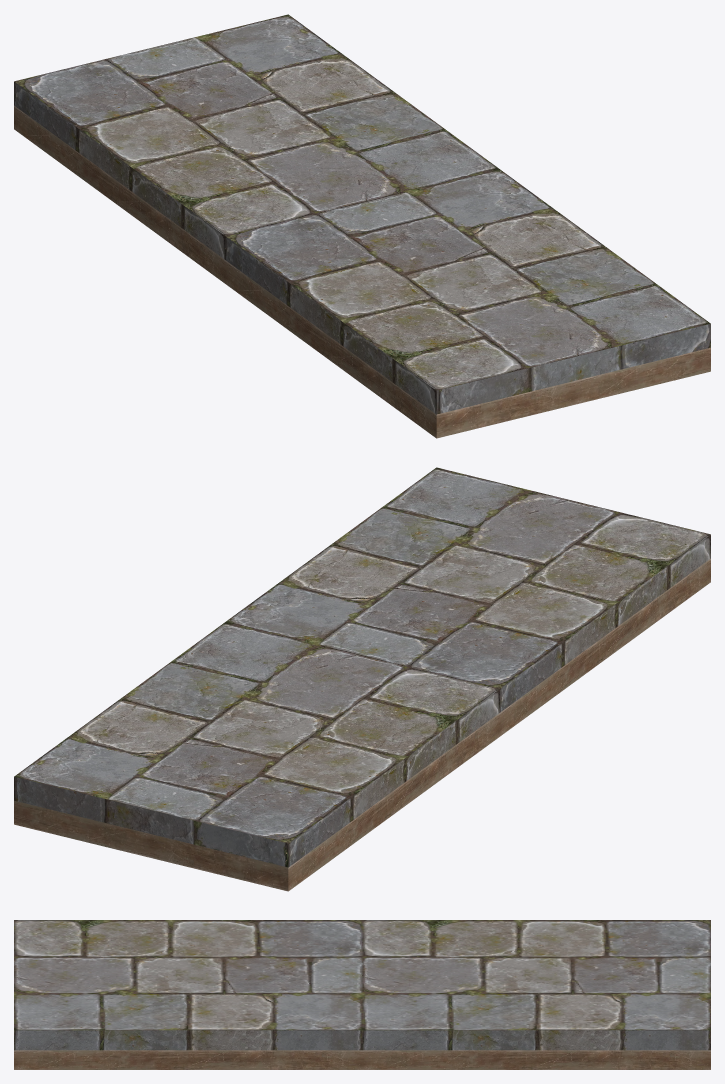
3 views of the same model, one above another, from view 1: azimuth 30°, elevation 25°; view 2: azimuth 150°, elevation 25°; view 3: azimuth 270°, elevation 25° (orthographic). The views are drawn at different scales.
Parts seen in each view (by area): view 1: SM_Greathall_Floor_8x3_01_LOD0; view 2: SM_Greathall_Floor_8x3_01_LOD0; view 3: SM_Greathall_Floor_8x3_01_LOD0.
Boxes of the visible parts, x1,y1,x2,y2 form: SM_Greathall_Floor_8x3_01_LOD0: [14, 14, 710, 438]; SM_Greathall_Floor_8x3_01_LOD0: [14, 467, 710, 891]; SM_Greathall_Floor_8x3_01_LOD0: [14, 920, 710, 1069].
Size of the model in its own units: 3 by 0.5 by 8.
Materials: 2 (2 with a texture image).
